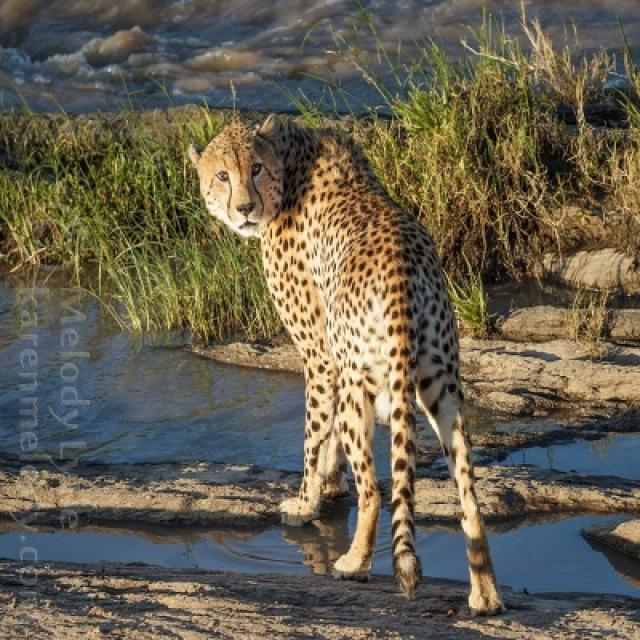Cheetah: (186, 122, 504, 618)
